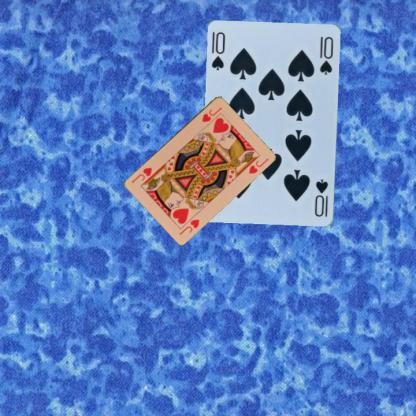10s: (209, 30, 227, 72), (312, 177, 329, 218)
Jh: (177, 216, 201, 236), (199, 104, 224, 123)
